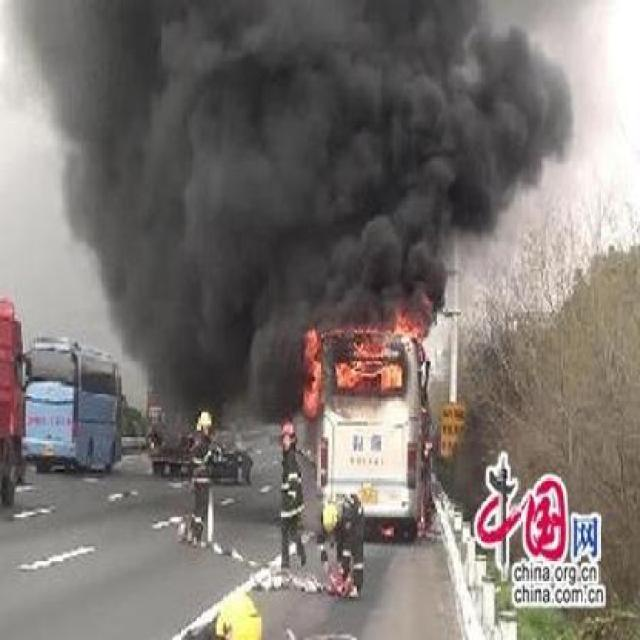Fire: (306, 314, 423, 422)
Smoke: (47, 2, 570, 322)
